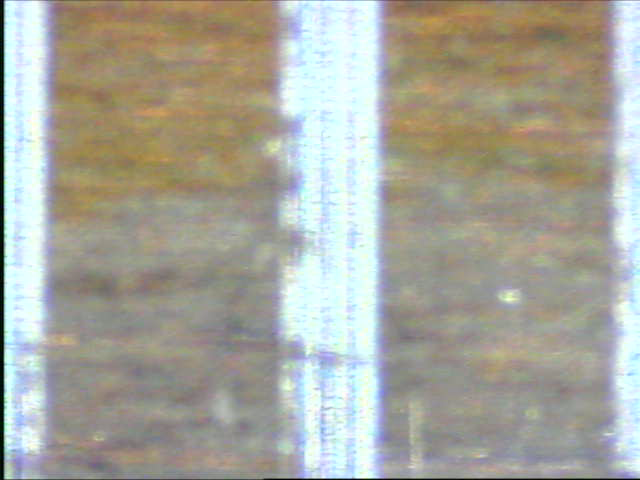line: (276, 1, 384, 476)
